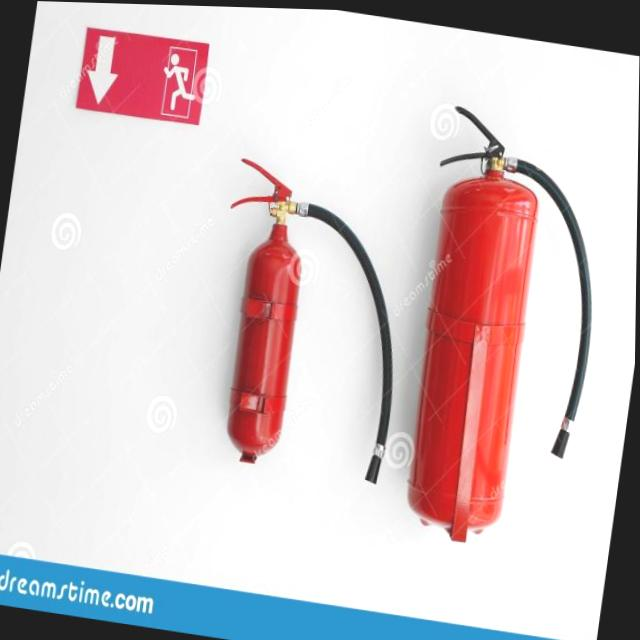FireExtinguisher: (384, 89, 626, 559), (186, 143, 425, 499)
